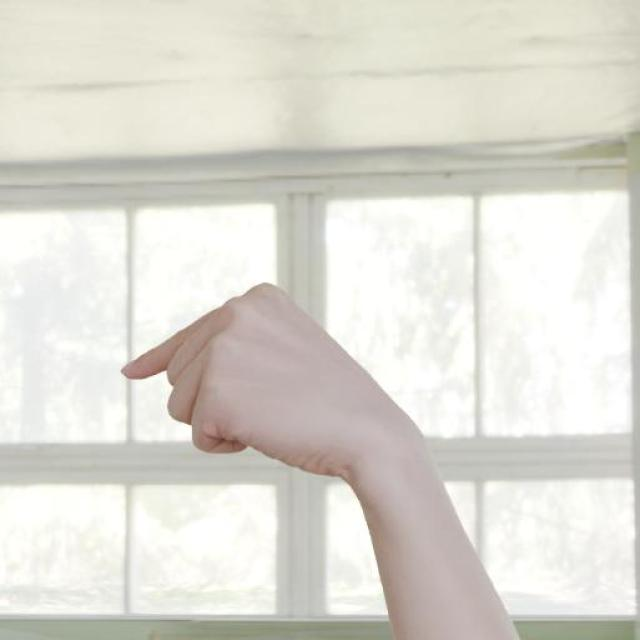Q: (114, 277, 417, 481)
